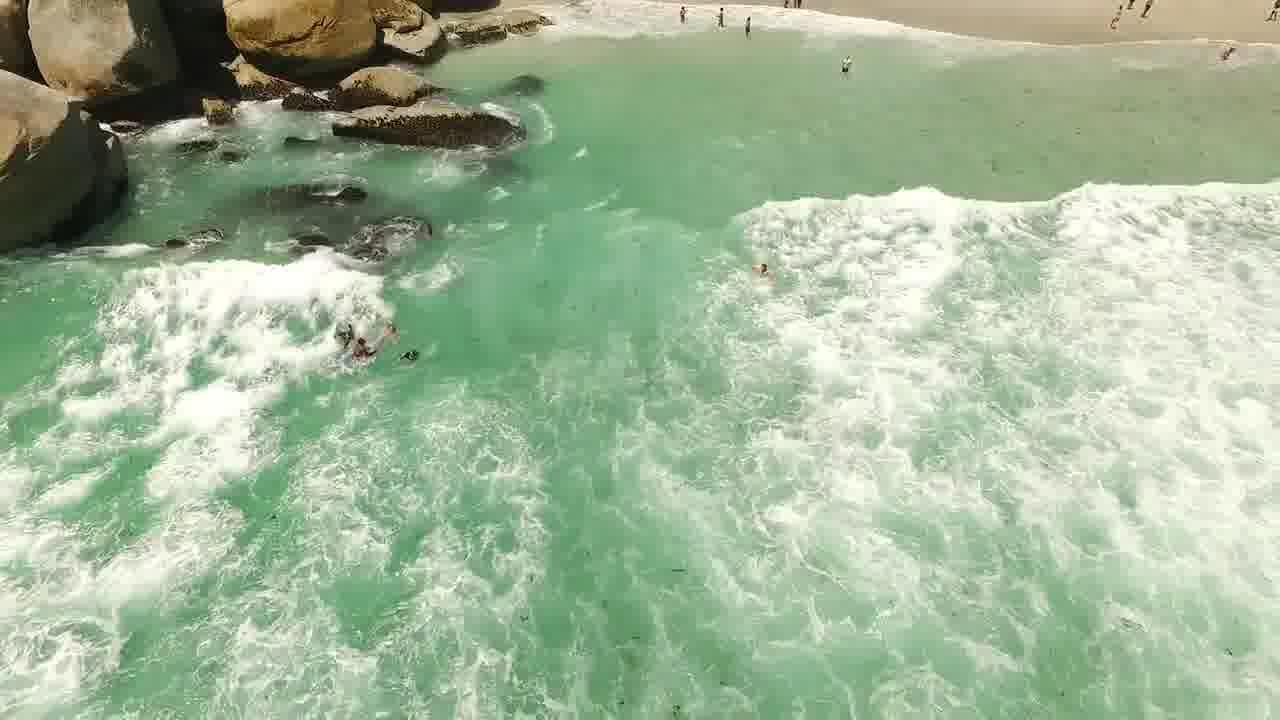human: (731, 251, 785, 284), (373, 311, 413, 346), (341, 337, 385, 364)
